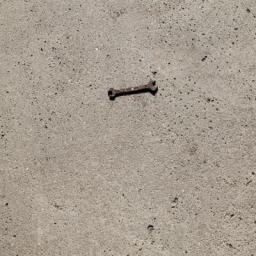FOD: (106, 78, 160, 103)
